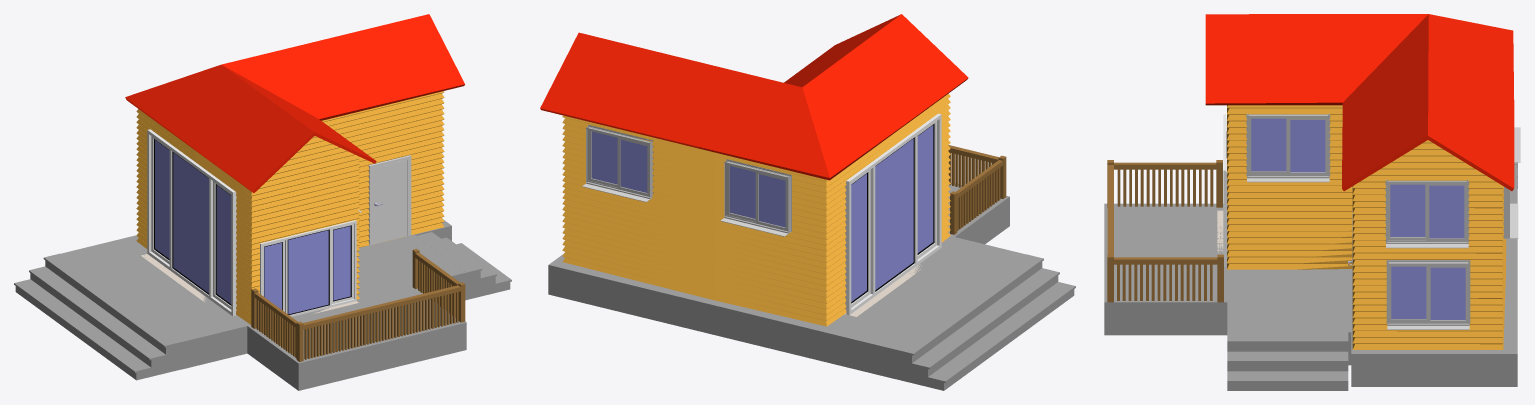
The model's file is OMAKOTITALO-V2V1V20MateriaalitToFbxToimii.fbx.
3 renders of one model, left to right at view 1: azimuth 30°, elevation 25°; view 2: azimuth 150°, elevation 25°; view 3: azimuth 270°, elevation 25°, orthographic. The views are drawn at different scales.
Visible parts, largest first — view 1: AlaOsa; view 2: AlaOsa; view 3: AlaOsa.
Boxes of the visible parts, bbox=[...] form: AlaOsa: bbox=[14, 14, 511, 390]; AlaOsa: bbox=[540, 14, 1075, 390]; AlaOsa: bbox=[1104, 14, 1520, 390].
Size of the model in its own units: 763 by 412 by 606.
